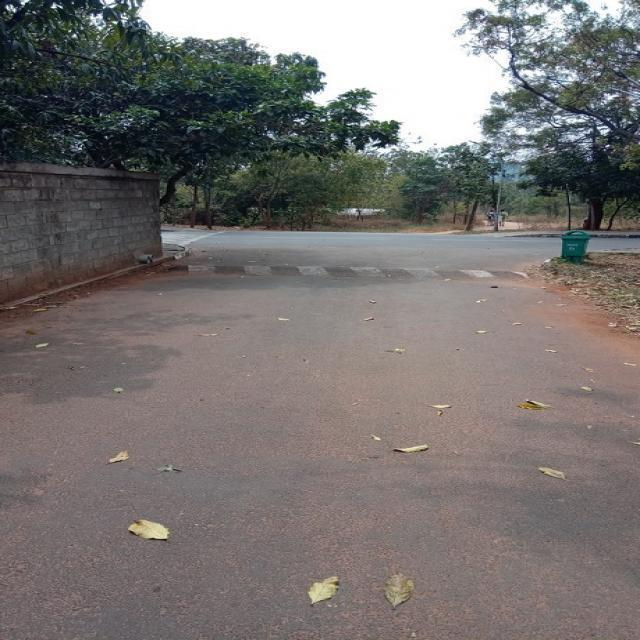speedbreaker: (141, 262, 528, 280)
